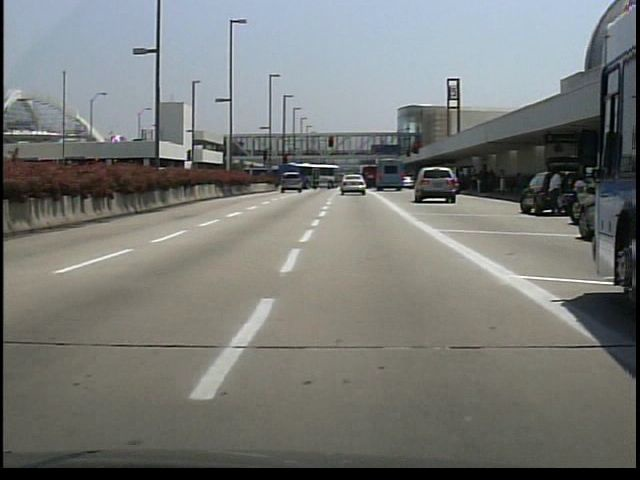person: (544, 168, 564, 215)
